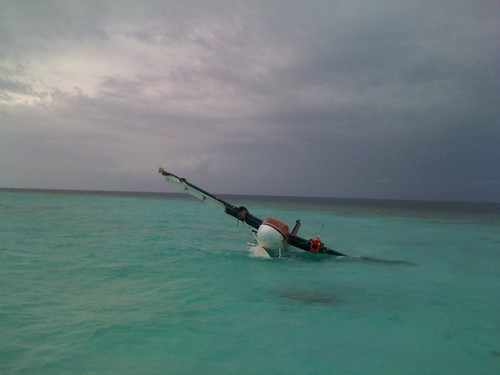plane: (159, 168, 352, 265)
sea: (1, 1, 490, 196), (1, 200, 490, 375)
